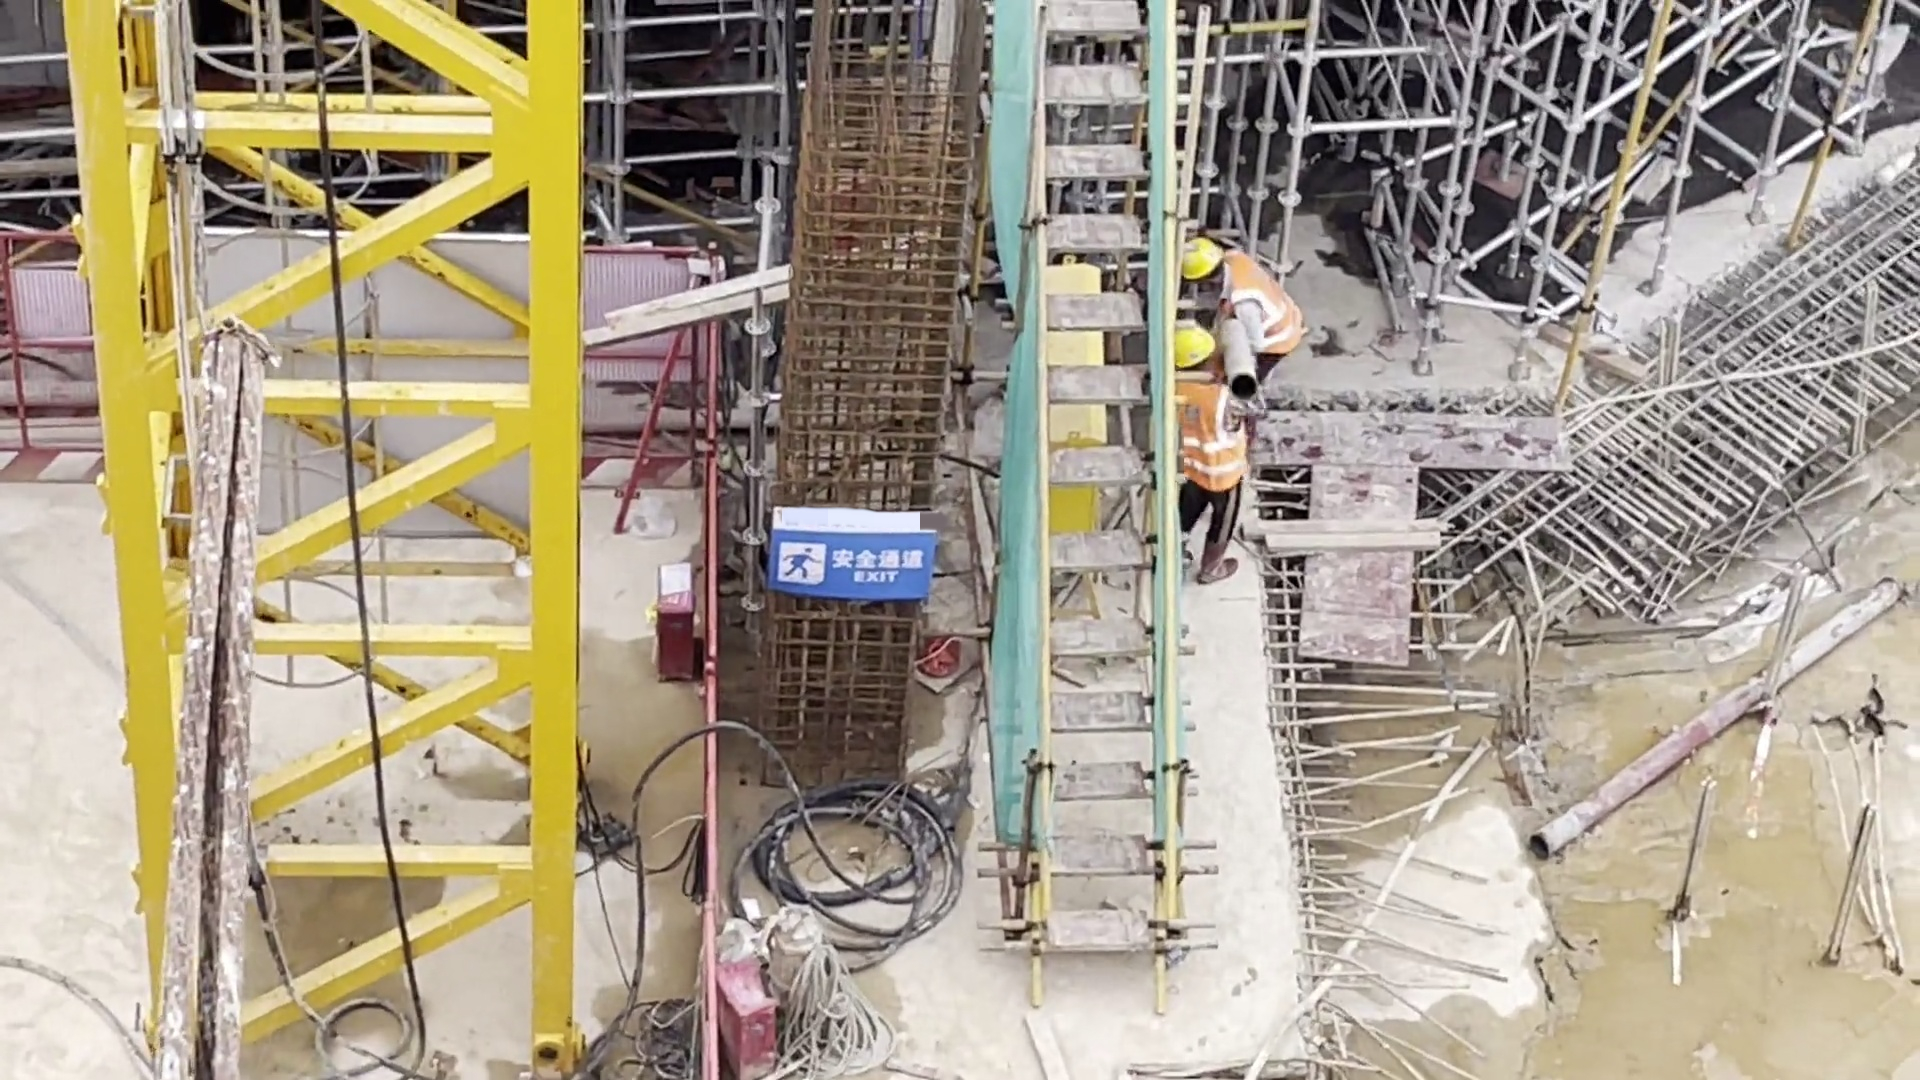ebox: (1040, 252, 1123, 563)
fence: (1, 234, 718, 423), (705, 241, 724, 1080)
helmet: (1167, 235, 1228, 276), (1175, 319, 1215, 367)
person: (1181, 223, 1315, 380), (1170, 317, 1245, 590)
vest: (1174, 369, 1247, 489), (1230, 252, 1301, 365)
